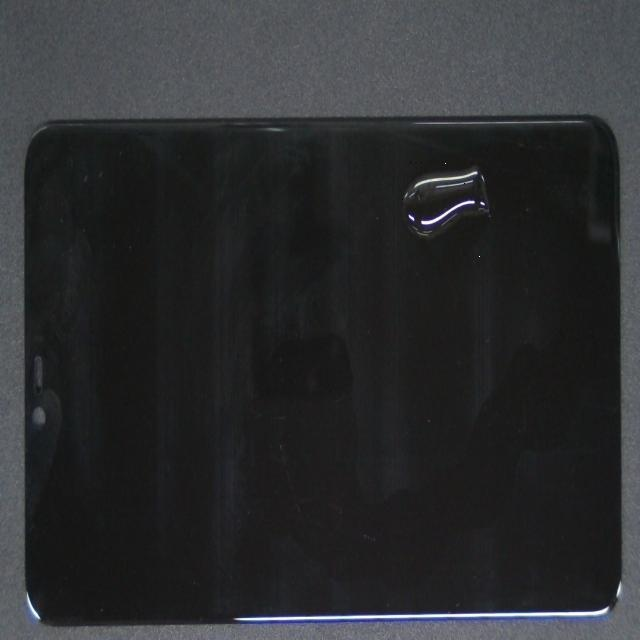oil: (245, 84, 640, 267)
